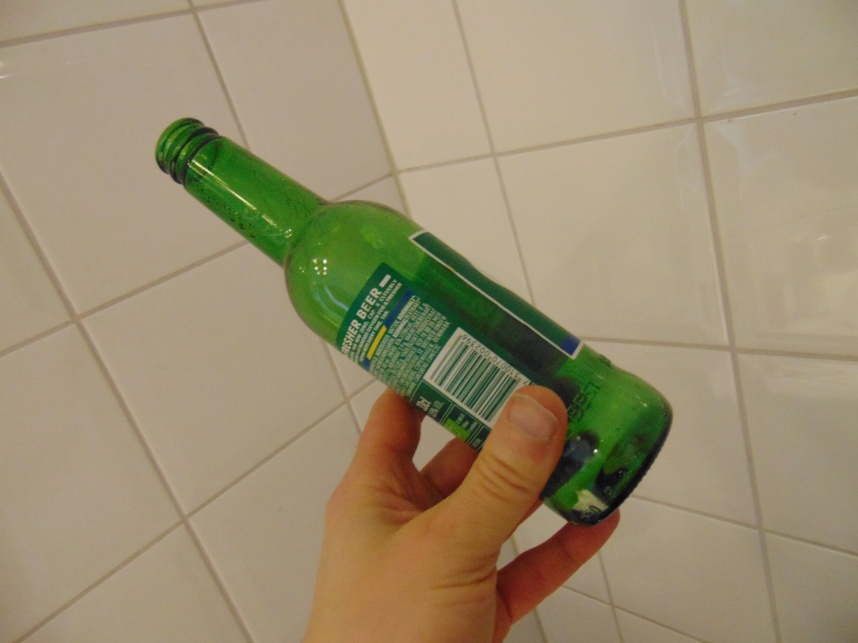glass_bottle: (155, 117, 676, 529)
